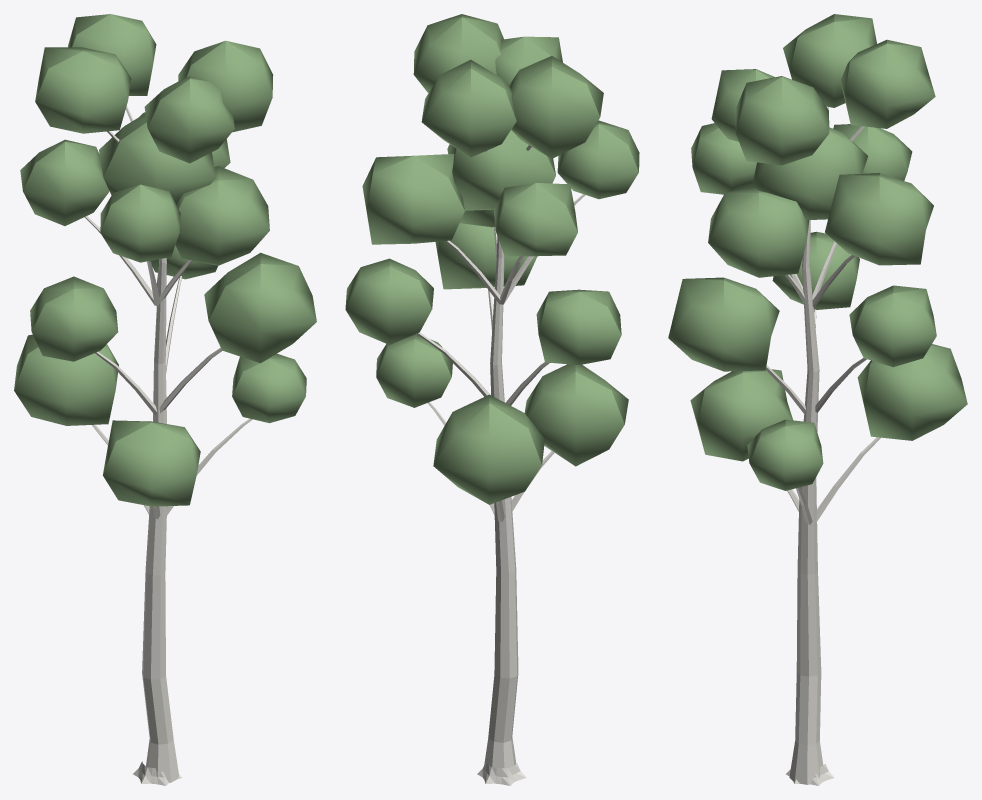
File: beech_mature.glb
3 views of the same model, side by side, from view 1: azimuth 30°, elevation 25°; view 2: azimuth 150°, elevation 25°; view 3: azimuth 270°, elevation 25° (orthographic).
Visible parts, largest first — view 1: beech-mature; view 2: beech-mature; view 3: beech-mature.
Part boxes in pixels (<box>): beech-mature: <box>14,14,316,785</box>; beech-mature: <box>345,14,639,785</box>; beech-mature: <box>668,14,967,785</box>.
Size of the model in its own units: 9.09 by 24.61 by 9.17.
